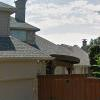Chimney: (11, 0, 36, 27)
